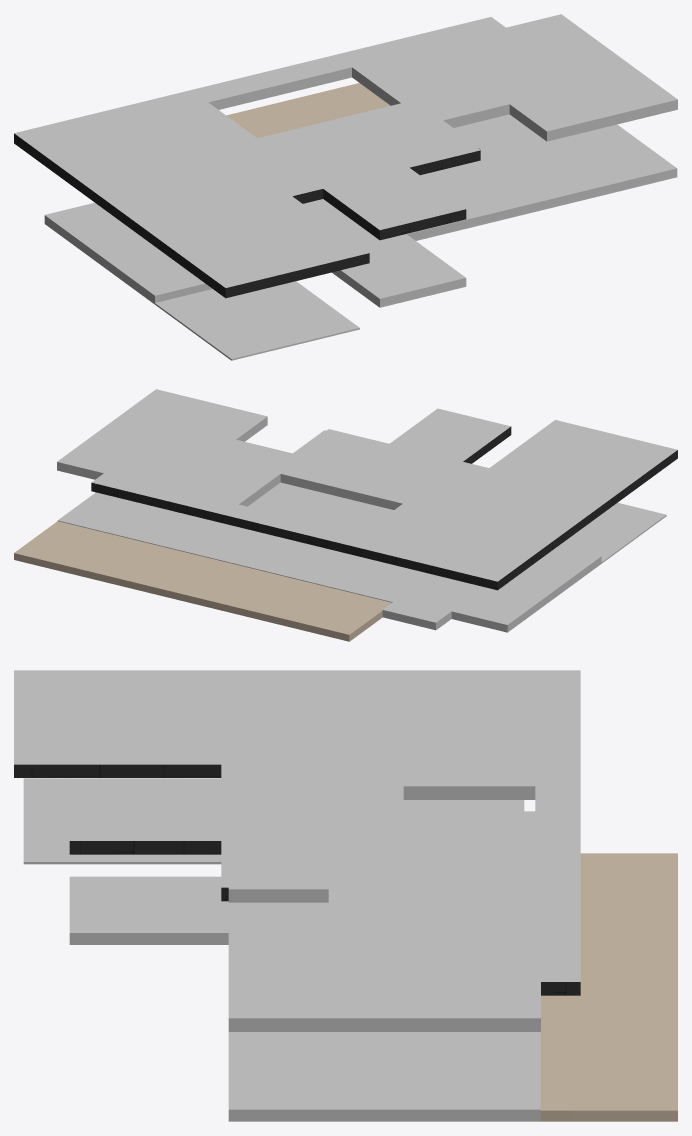
Rendered from MCHouse-Lantai.fbx.
3 renders of one model, top to bottom at view 1: azimuth 30°, elevation 25°; view 2: azimuth 150°, elevation 25°; view 3: azimuth 270°, elevation 25°, orthographic. The views are drawn at different scales.
Visible parts, largest first — view 1: MCHouse-Lantai; view 2: MCHouse-Lantai; view 3: MCHouse-Lantai.
Boxes of the visible parts, x1,y1,x2,y2 form: MCHouse-Lantai: [14, 14, 677, 360]; MCHouse-Lantai: [14, 389, 677, 641]; MCHouse-Lantai: [14, 670, 677, 1121].
Size of the model in its own units: 3362 by 468 by 2713.
